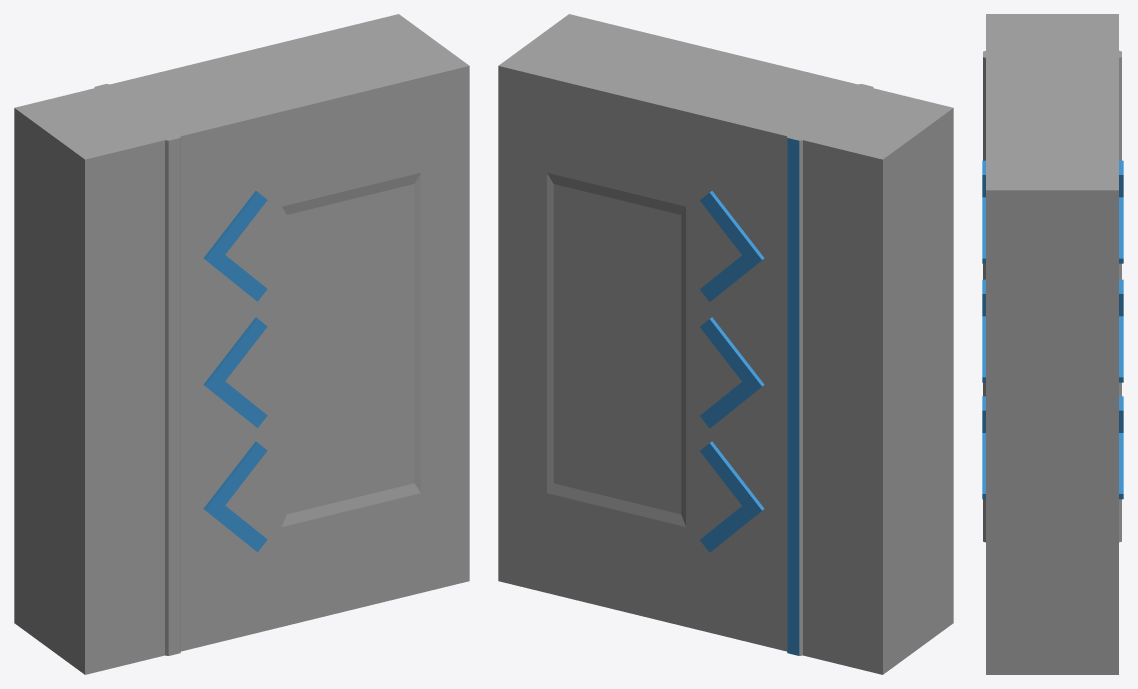
Rendered from Door (Blue).fbx.
3 views of the same model, side by side, from view 1: azimuth 30°, elevation 25°; view 2: azimuth 150°, elevation 25°; view 3: azimuth 270°, elevation 25° (orthographic). The views are drawn at different scales.
Visible parts, largest first — view 1: pCube867; view 2: pCube867; view 3: pCube867.
Boxes of the visible parts, box(x1,y1,x2,y2) form: pCube867: box(14, 14, 469, 674); pCube867: box(498, 14, 953, 674); pCube867: box(982, 14, 1123, 674).
Bounding box in the file's own units: 11.88 × 15.22 × 4.03.
